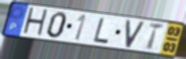0: (45, 11, 68, 40)
1: (75, 14, 88, 42)
H: (21, 7, 50, 39)
L: (92, 17, 111, 45)
T: (146, 22, 166, 52)
V: (124, 19, 147, 49)
